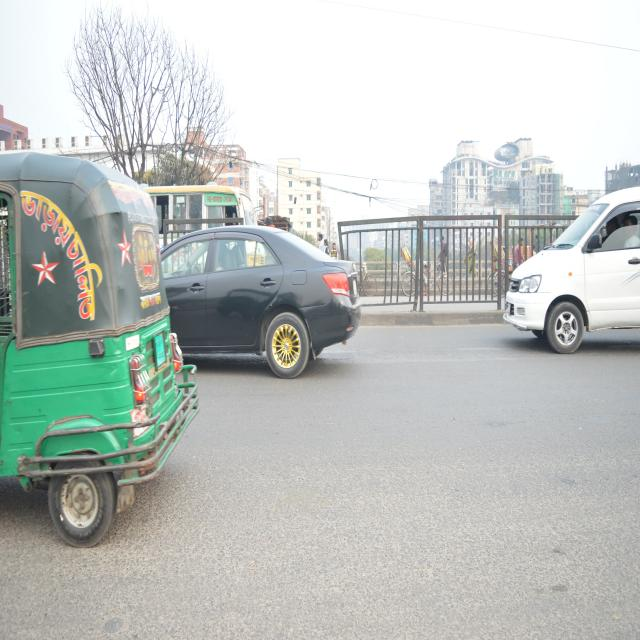car: (154, 227, 364, 369)
microbus: (503, 187, 640, 346)
